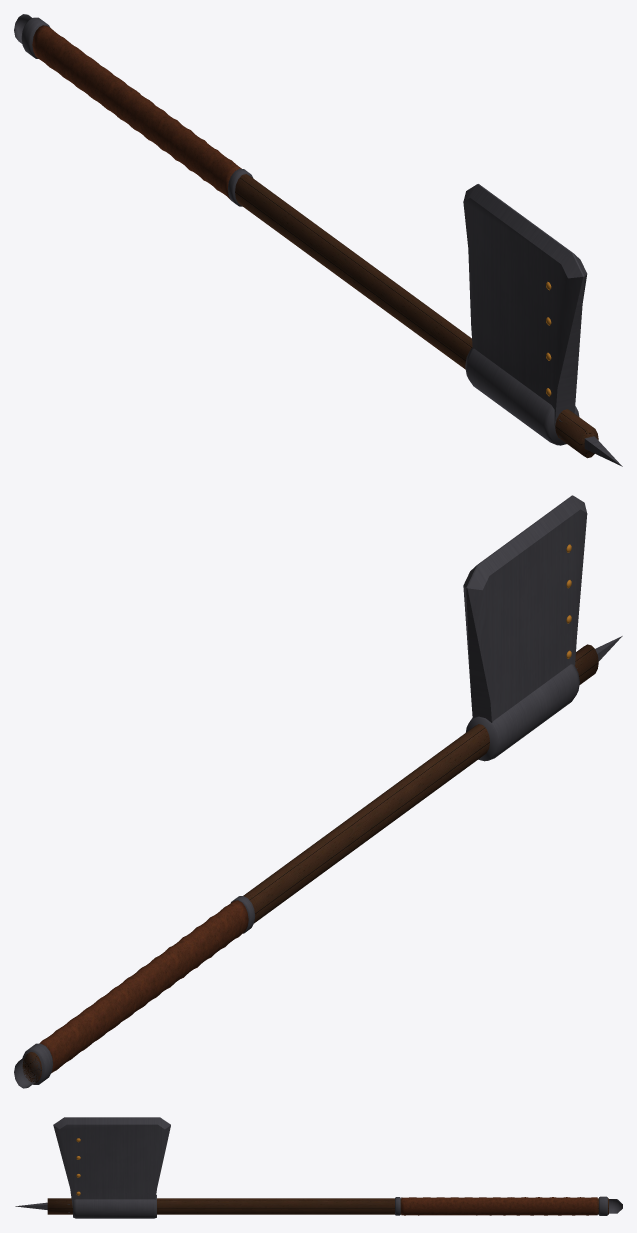
Rendered from weapon_sable_cleaver.glb.
The picture shows the model from 3 angles, top to bottom: view 1: azimuth 30°, elevation 25°; view 2: azimuth 150°, elevation 25°; view 3: azimuth 270°, elevation 25°; orthographic projection. The views are drawn at different scales.
Visible parts, largest first — view 1: sable_cleaver; view 2: sable_cleaver; view 3: sable_cleaver.
Boxes of the visible parts, <box> form: sable_cleaver: <box>14,14,622,466</box>; sable_cleaver: <box>14,495,622,1088</box>; sable_cleaver: <box>15,1117,622,1218</box>.
Size of the model in its own units: 0.0357 by 0.1975 by 1.09.
Materials: 4 (4 with a texture image).
